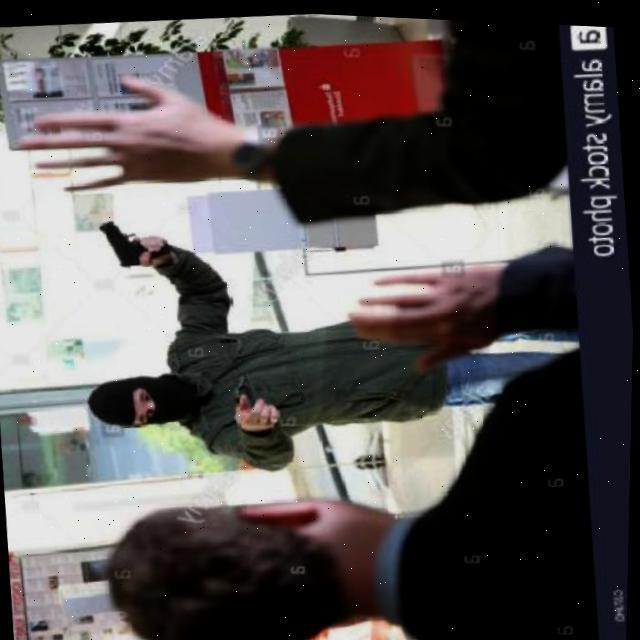gun: (96, 216, 176, 271)
